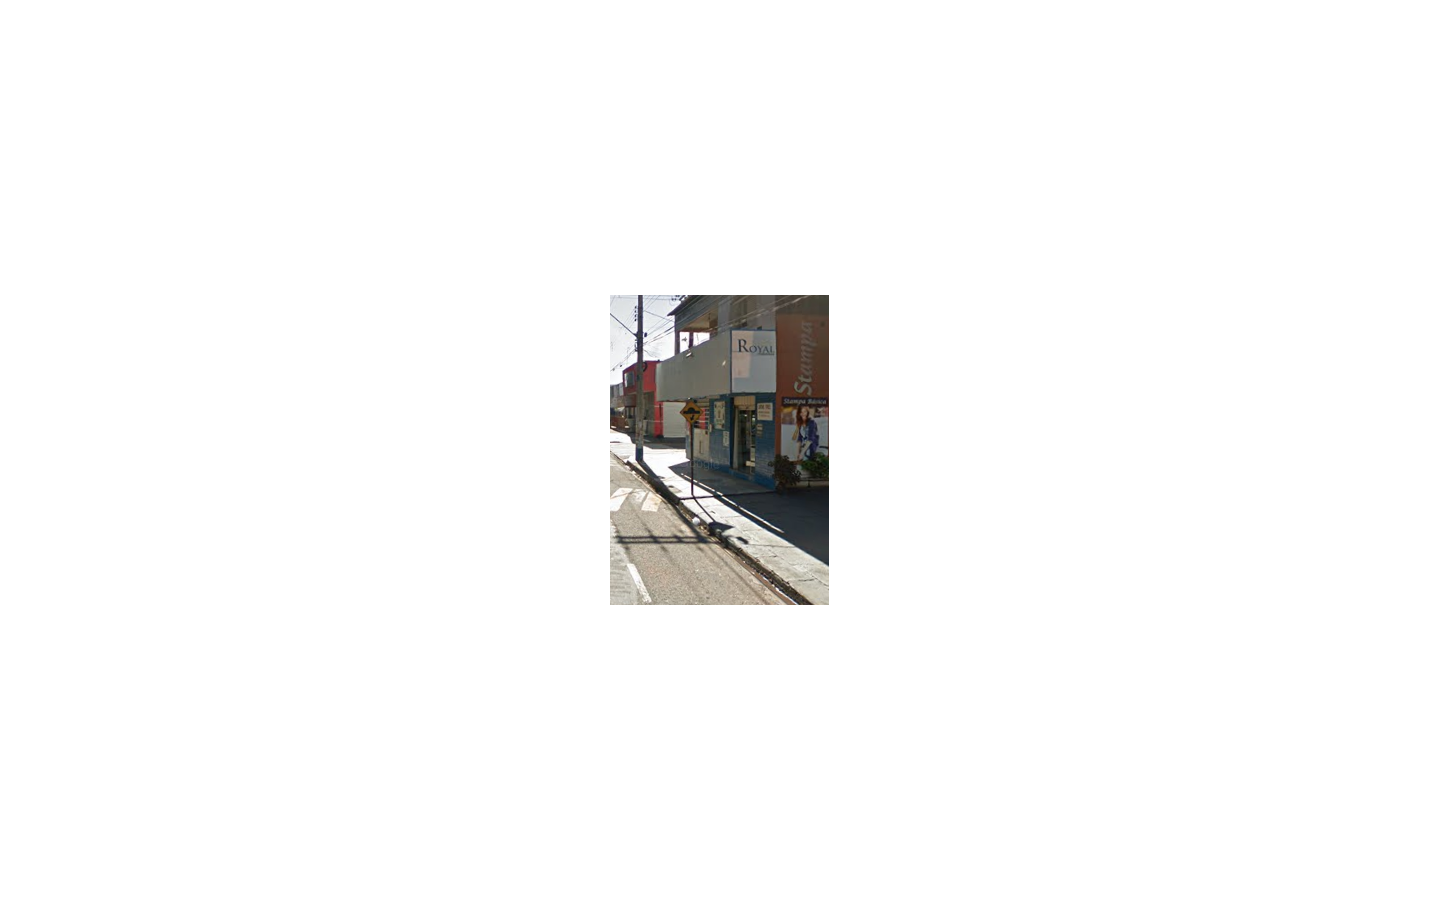lomb: (680, 398, 703, 424)
